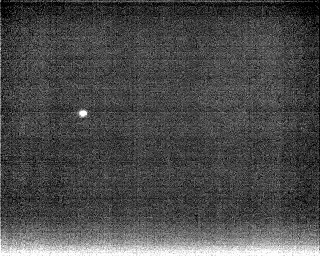AIRPLANE: (77, 107, 89, 119)
